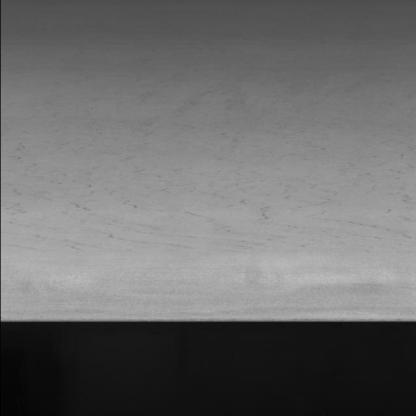silk_spot: (14, 149, 324, 256)
